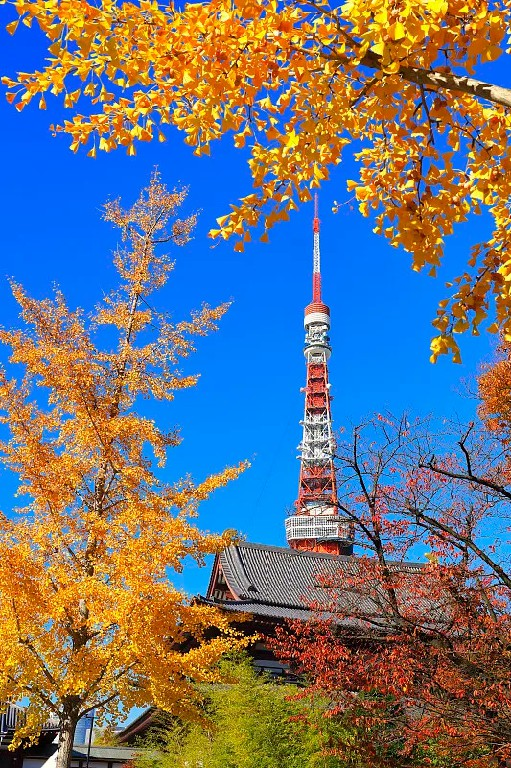Tokyo: (285, 186, 354, 556)
